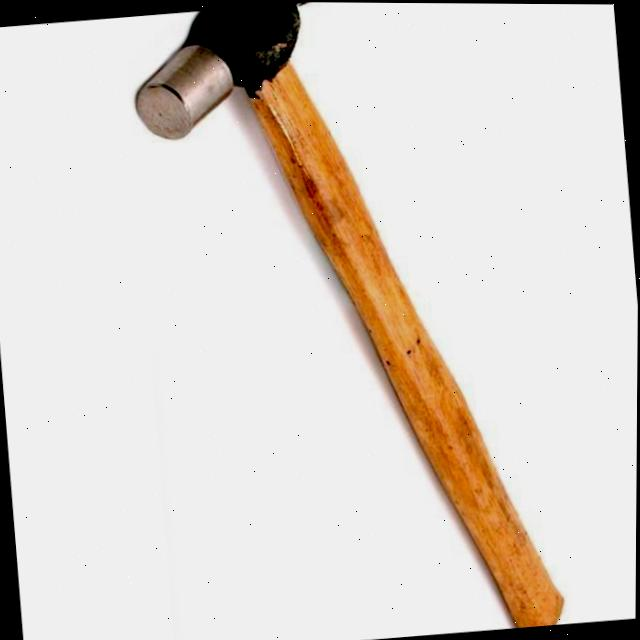hammer: (116, 1, 578, 640)
